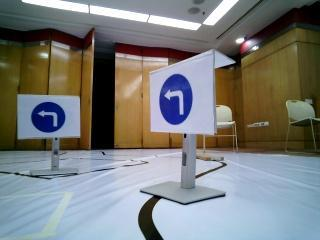left: (149, 58, 212, 138), (17, 98, 79, 139)
